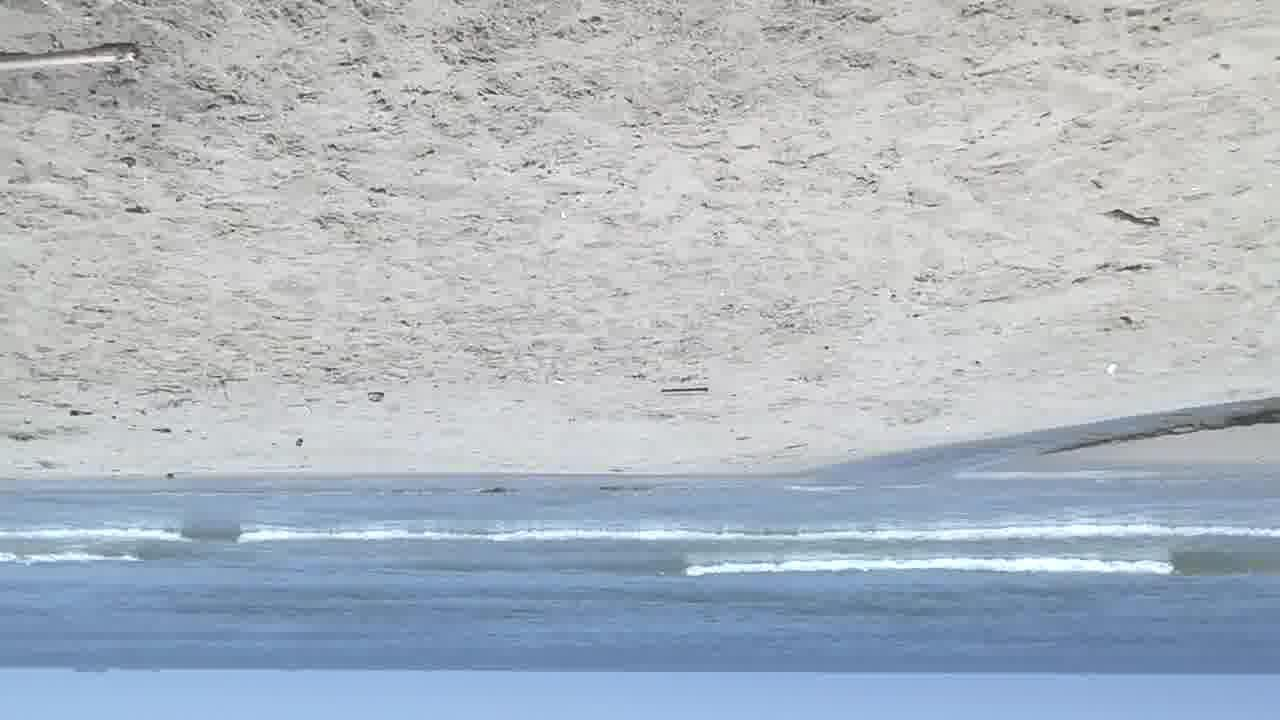obj: (5, 40, 142, 71), (1100, 200, 1162, 232), (651, 386, 712, 400)
sand/background: (1, 379, 1279, 719)
